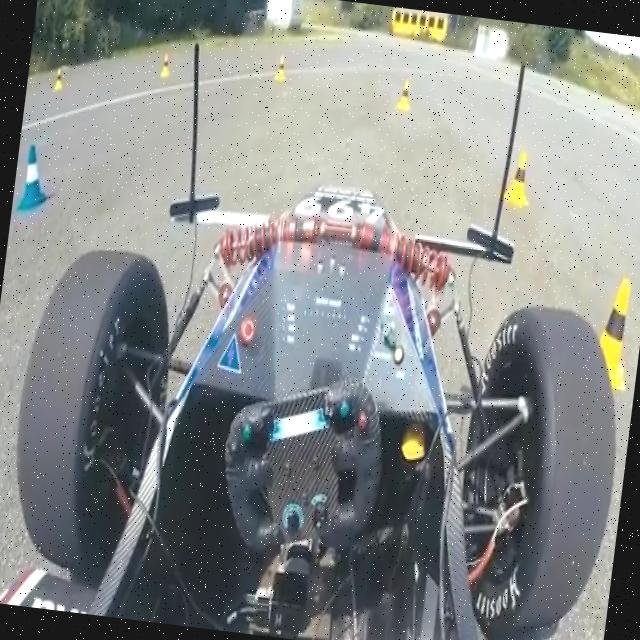blue_cone: (14, 141, 53, 215)
yellow_cone: (580, 267, 640, 390), (504, 142, 534, 208), (396, 75, 422, 117), (266, 48, 294, 86), (48, 64, 70, 96), (154, 49, 174, 84)
